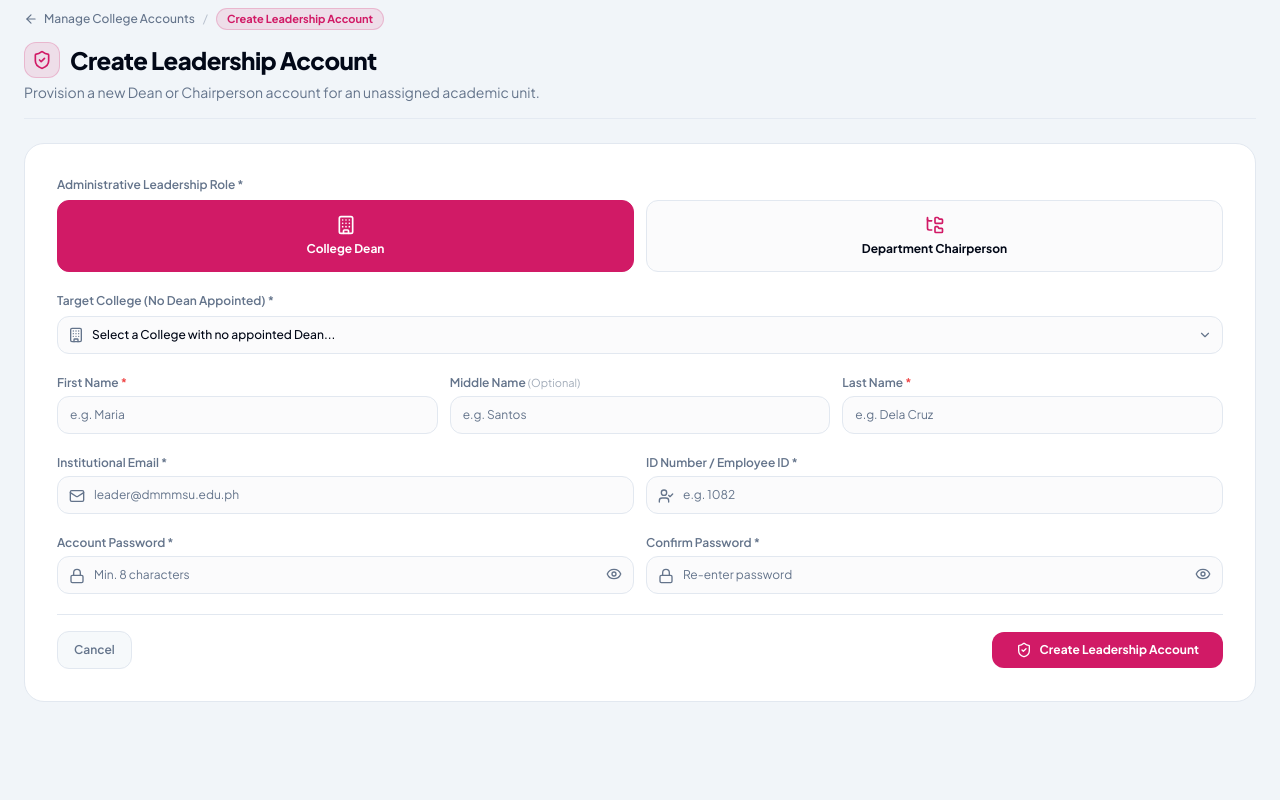
Scenario: CreateLeadershipAccountPage › switches between Dean and Chairperson and updates unit selector
The width and height of the screenshot is (1280, 800).
Click the radio button labelled "Department Chairperson": point(934, 236) [646,200,1223,272]
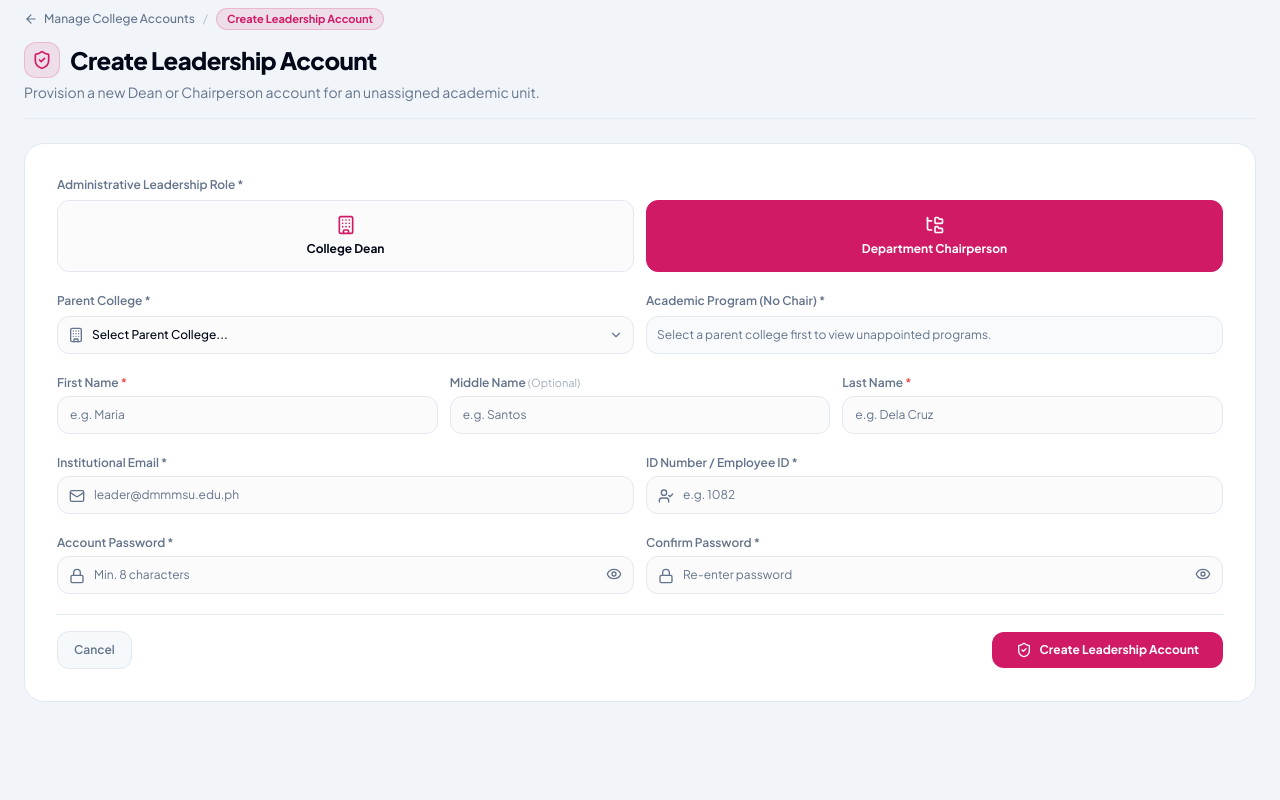
Check: the text "Parent College *" is shown, box [57,293,151,308]
Check: the text "Academic Program (No Chair) *" is shown, box [646,293,825,308]
